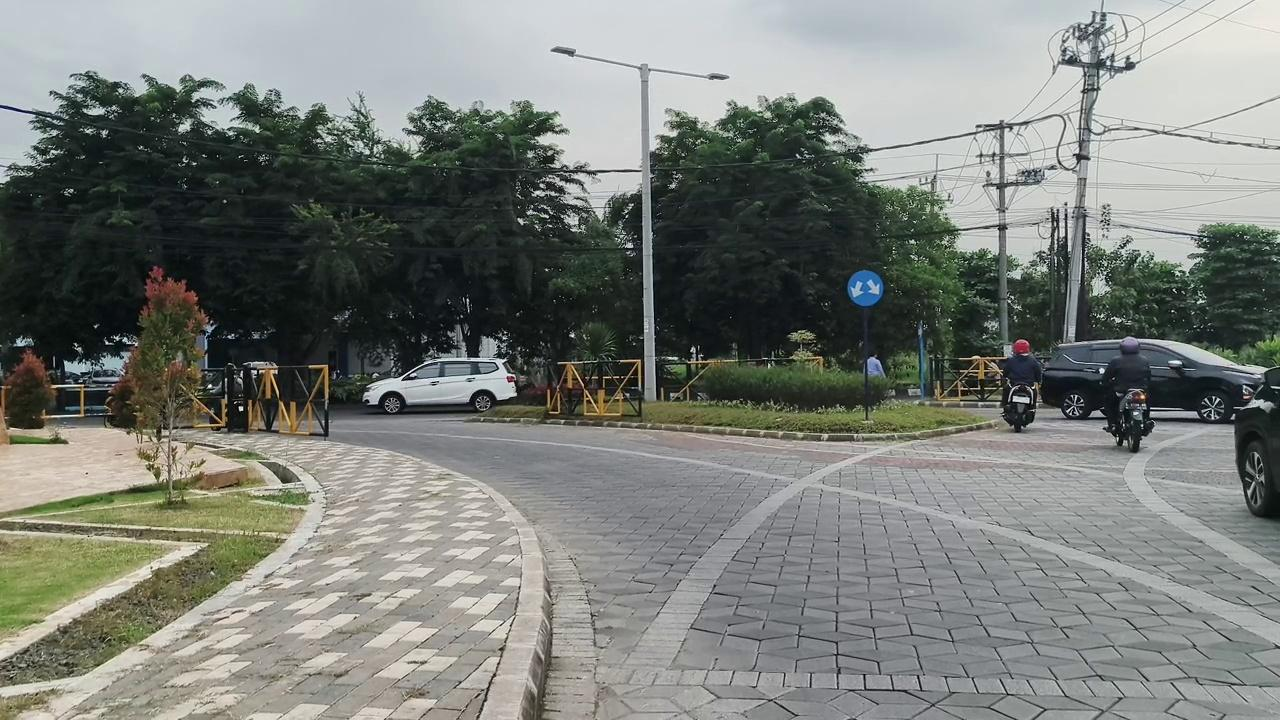Helmet: (1102, 337, 1150, 431), (1002, 339, 1042, 404)
Motor: (1111, 389, 1153, 452), (1002, 384, 1035, 432)
